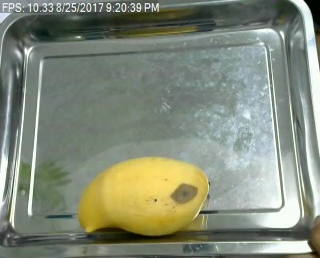Mango: (77, 156, 210, 239)
